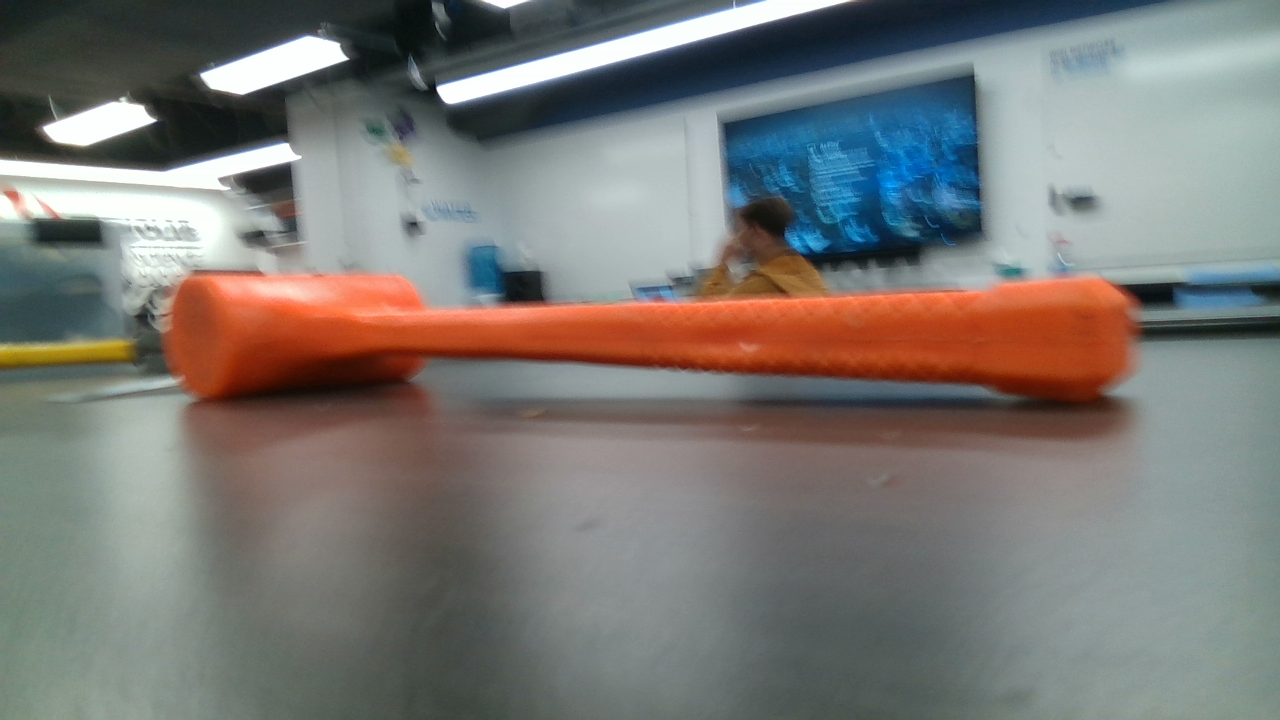Orange Hammer: (178, 267, 1134, 407)
